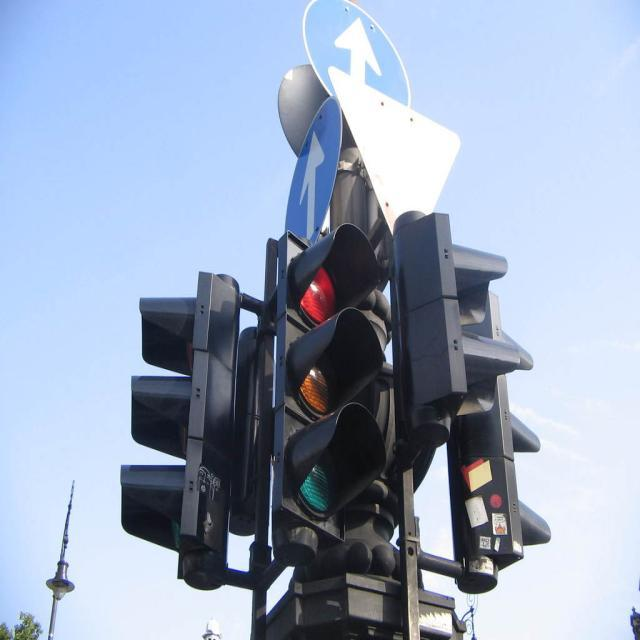obstructed_road_sign: (303, 0, 410, 106)
off traffic light: (117, 268, 234, 596), (395, 213, 521, 406)
road_sign: (286, 97, 342, 246)
traffic light: (281, 222, 387, 539)
